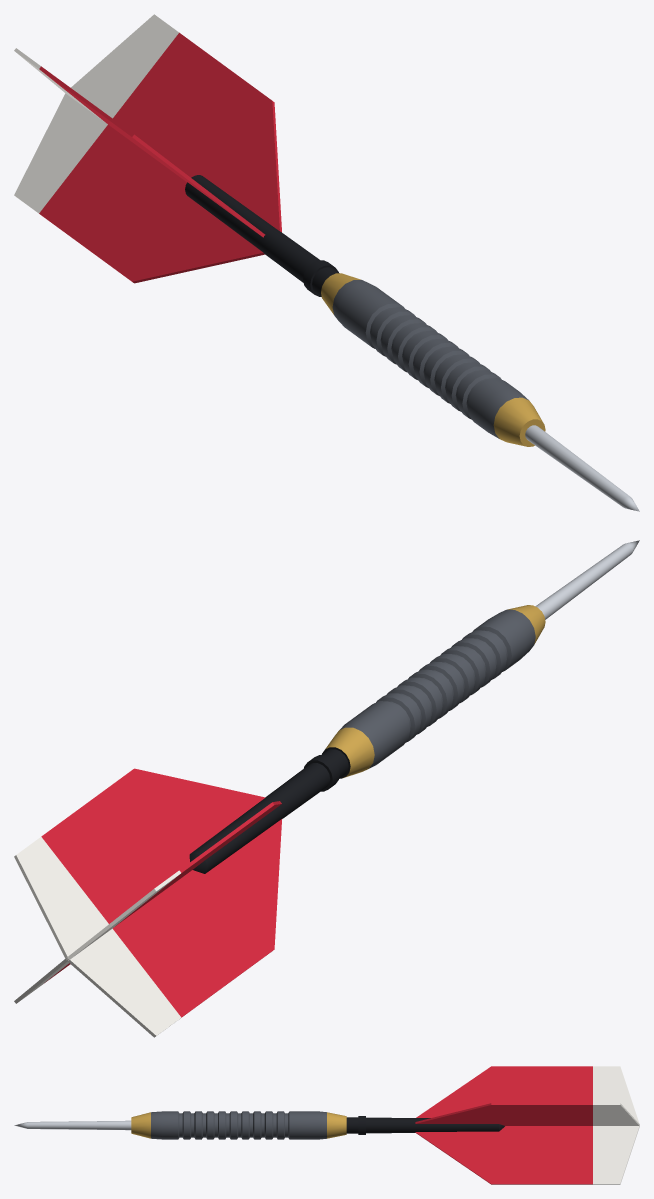
The model's file is Dart.fbx.
3 views of the same model, one above another, from view 1: azimuth 30°, elevation 25°; view 2: azimuth 150°, elevation 25°; view 3: azimuth 270°, elevation 25° (orthographic). The views are drawn at different scales.
Visible parts, largest first — view 1: Dart; view 2: Dart; view 3: Dart.
Part boxes in pixels (x1,y1,x2,y2): Dart: [14, 14, 639, 511]; Dart: [14, 540, 639, 1037]; Dart: [14, 1066, 639, 1184].
Size of the model in its own units: 0.023 by 0.023 by 0.16.
